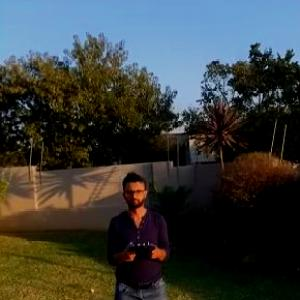follow: (99, 174, 170, 299)
